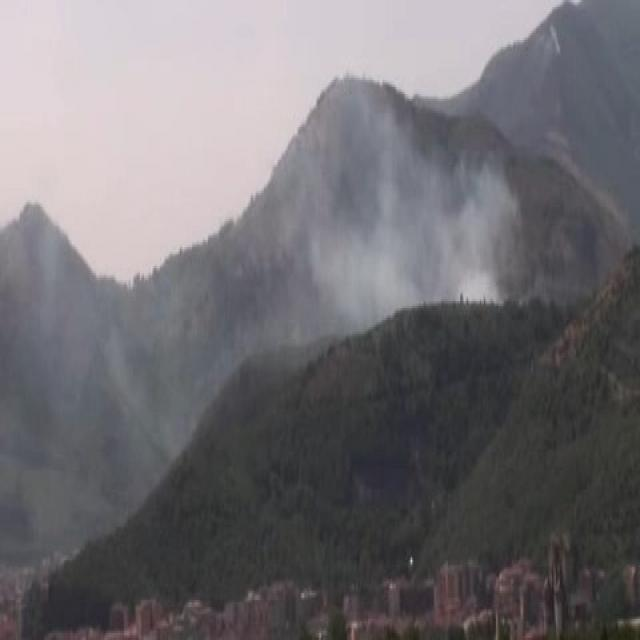smoke: (322, 92, 519, 306)
